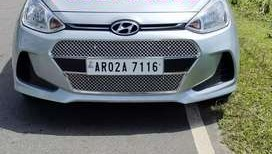AR02A7116: (86, 57, 163, 75)
